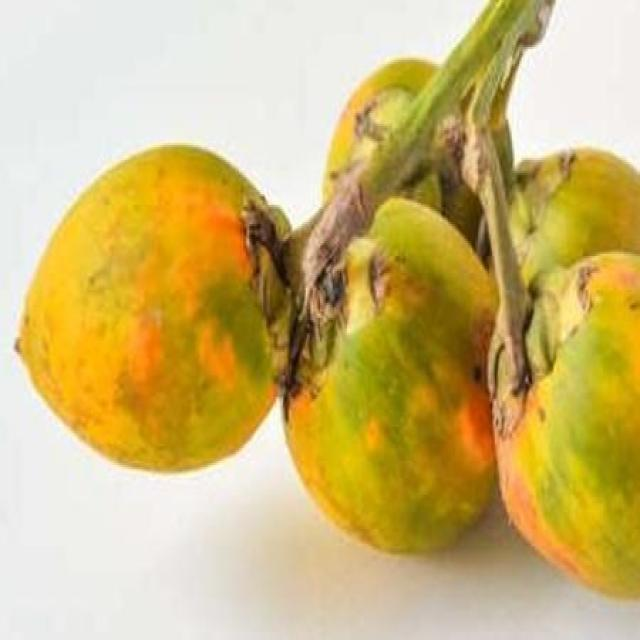good: (14, 145, 292, 476), (282, 196, 499, 557), (499, 254, 639, 604)
